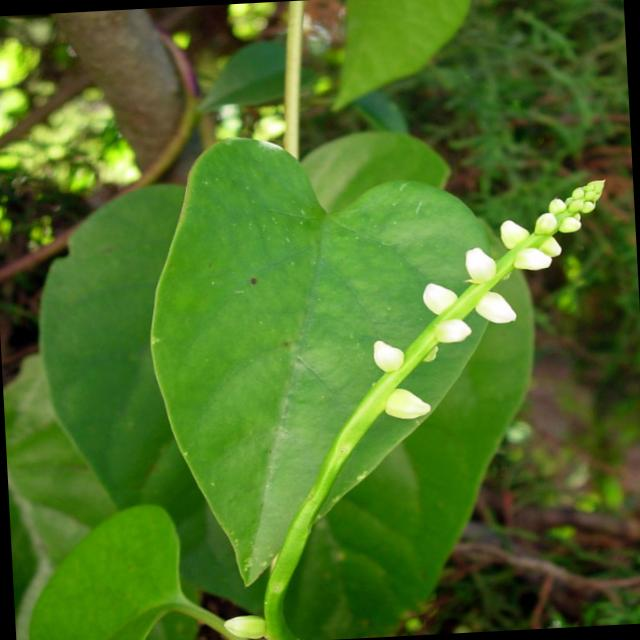Medicinal-Basale: (21, 116, 635, 630)
